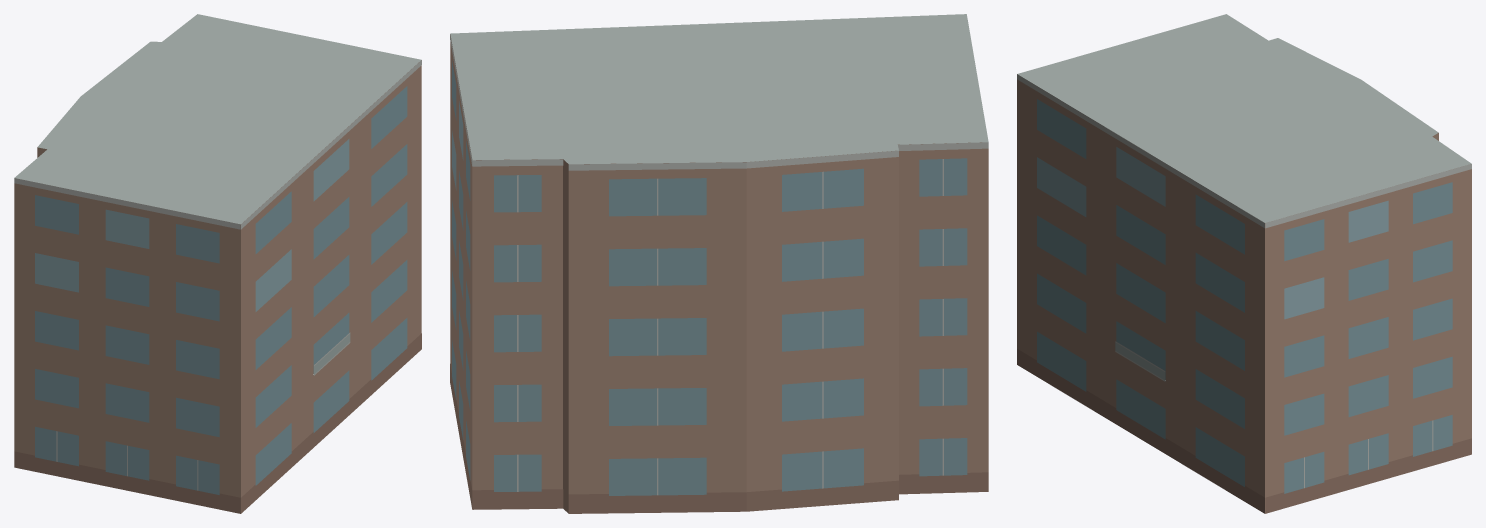
The model's file is survey-upis-32676308.glb.
3 renders of one model, left to right at view 1: azimuth 30°, elevation 25°; view 2: azimuth 150°, elevation 25°; view 3: azimuth 270°, elevation 25°, orthographic. The views are drawn at different scales.
Parts seen in each view (by area): view 1: survey-upis-32676308.tmp; view 2: survey-upis-32676308.tmp; view 3: survey-upis-32676308.tmp.
Boxes of the visible parts, x1,y1,x2,y2 form: survey-upis-32676308.tmp: [14, 14, 421, 513]; survey-upis-32676308.tmp: [450, 14, 988, 513]; survey-upis-32676308.tmp: [1017, 14, 1471, 513].
Size of the model in its own units: 20.48 by 13.27 by 18.82.
